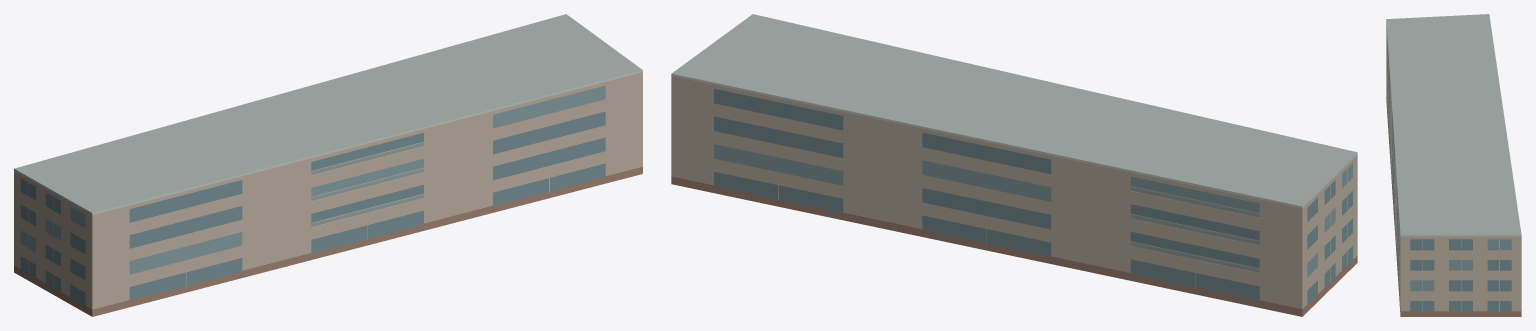
Rendered from residential-4881ca0a-b551-4d7f-acd8-fc7fc32283e7.glb.
The picture shows the model from 3 angles, left to right: view 1: azimuth 30°, elevation 25°; view 2: azimuth 150°, elevation 25°; view 3: azimuth 270°, elevation 25°; orthographic projection. The views are drawn at different scales.
Visible parts, largest first — view 1: residential-4881ca0a-b551-4d7f-acd8-fc7fc32283e7.tmp; view 2: residential-4881ca0a-b551-4d7f-acd8-fc7fc32283e7.tmp; view 3: residential-4881ca0a-b551-4d7f-acd8-fc7fc32283e7.tmp.
Boxes of the visible parts, left/top/right/bottom form: residential-4881ca0a-b551-4d7f-acd8-fc7fc32283e7.tmp: left=14, top=14, right=642, bottom=316; residential-4881ca0a-b551-4d7f-acd8-fc7fc32283e7.tmp: left=671, top=14, right=1357, bottom=316; residential-4881ca0a-b551-4d7f-acd8-fc7fc32283e7.tmp: left=1386, top=14, right=1521, bottom=316.
Bounding box in the file's own units: 70.4 × 12.2 × 18.21.
